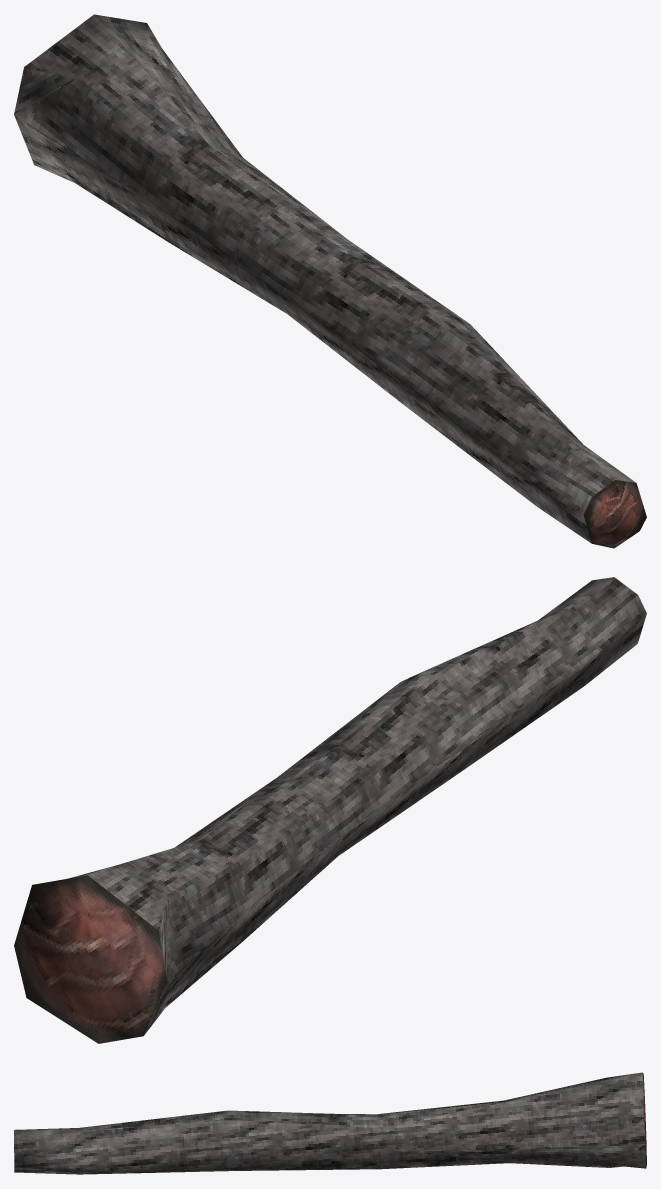
The model's file is firTreeDowned.glb.
The picture shows the model from 3 angles, top to bottom: view 1: azimuth 30°, elevation 25°; view 2: azimuth 150°, elevation 25°; view 3: azimuth 270°, elevation 25°; orthographic projection. The views are drawn at different scales.
Parts seen in each view (by area): view 1: FirTree.001; view 2: FirTree.001; view 3: FirTree.001.
Part boxes in pixels (x1,y1,x2,y2): FirTree.001: (14,14,646,548); FirTree.001: (14,577,646,1043); FirTree.001: (14,1072,646,1174).
Size of the model in its own units: 0.7902 by 0.821 by 4.8.
Materials: 1 (1 with a texture image).
